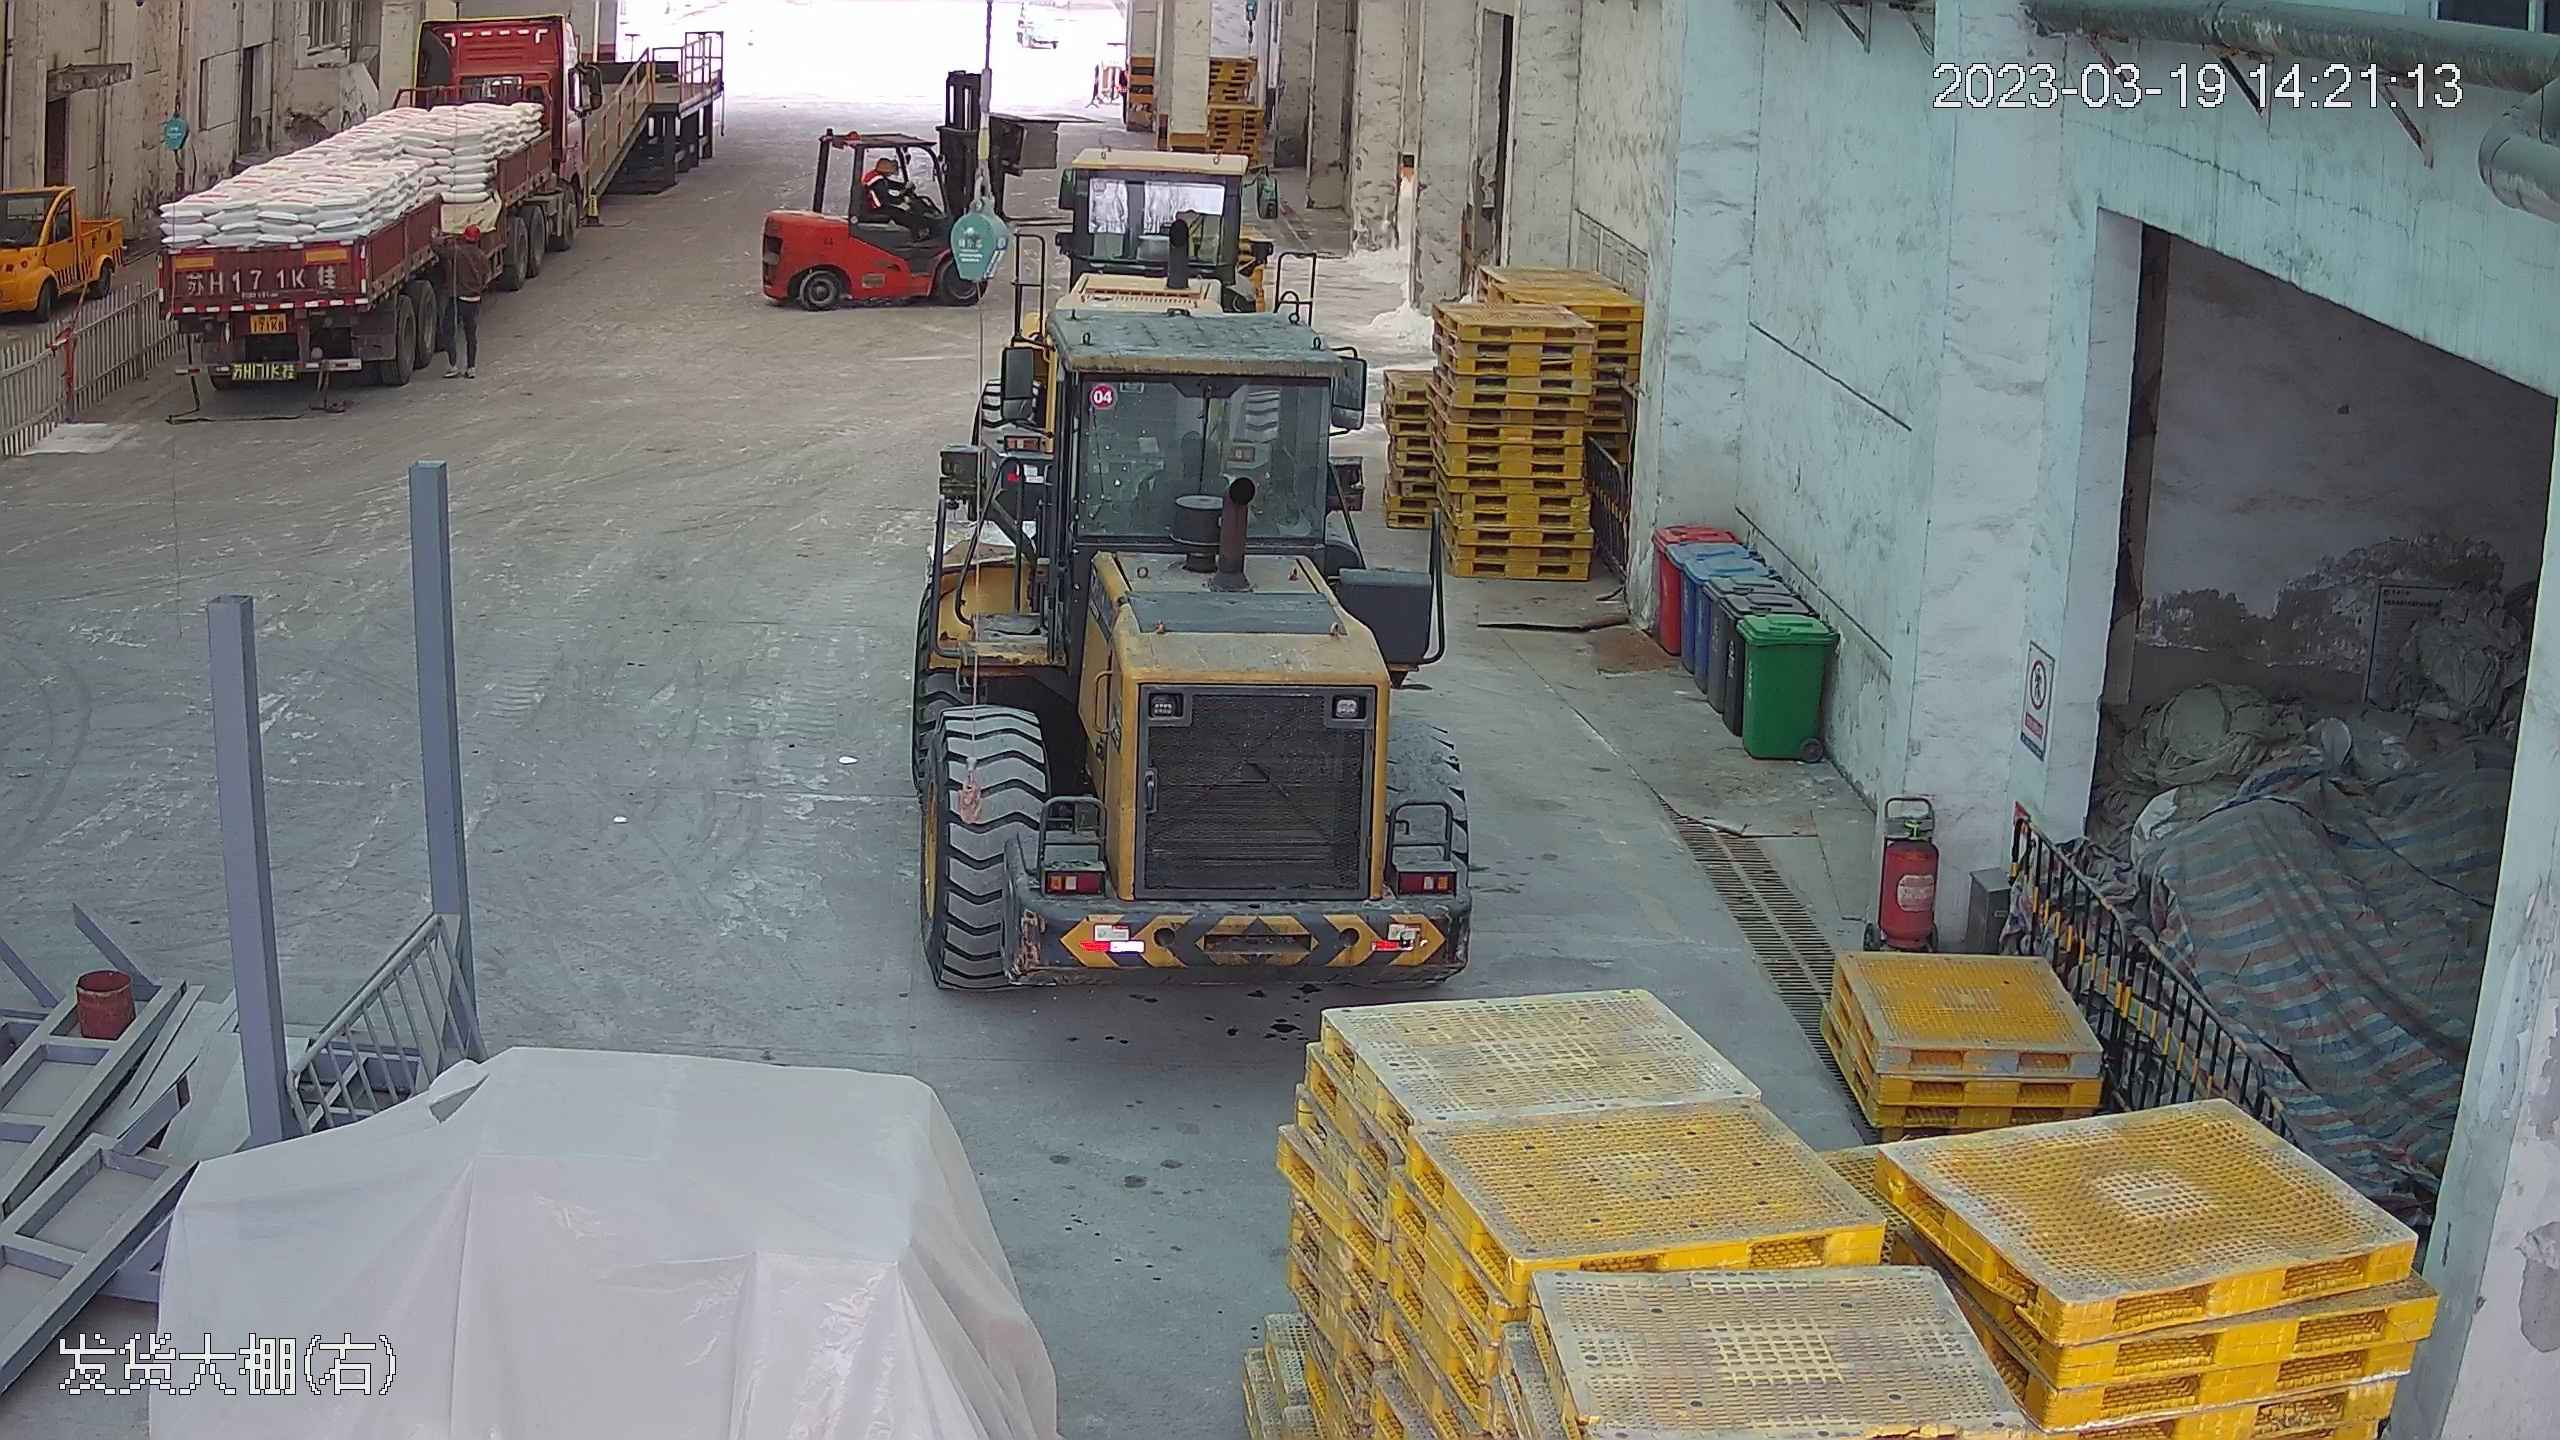head: (863, 151, 903, 199)
helmet: (874, 158, 896, 175)
people: (862, 148, 917, 230)
truck: (134, 4, 642, 392)
